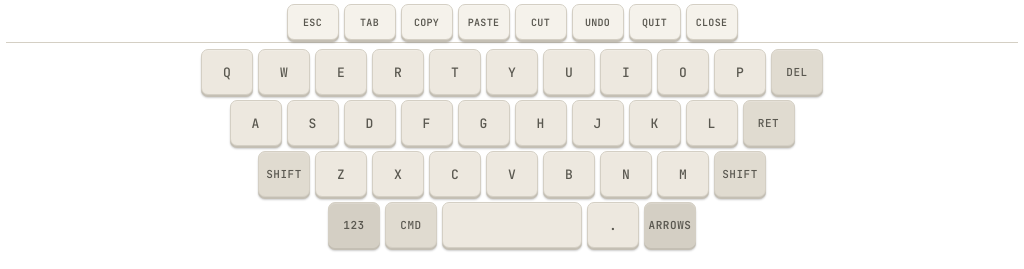
Test case: VirtualKeyboard › mode switching › should switch back to letters mode when ABC is pressed
Go to number mode
Press the mouse on the button "123" at (354, 225), box x1=328 y1=202 x2=380 y2=248
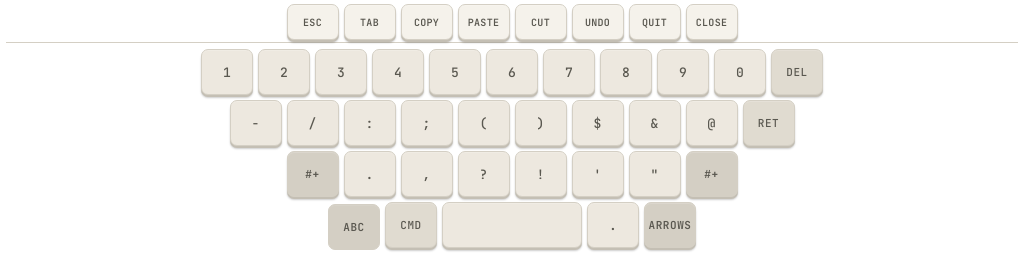
Go back to letter mode
Press the mouse on the button "ABC" at (354, 227), box x1=328 y1=204 x2=380 y2=250
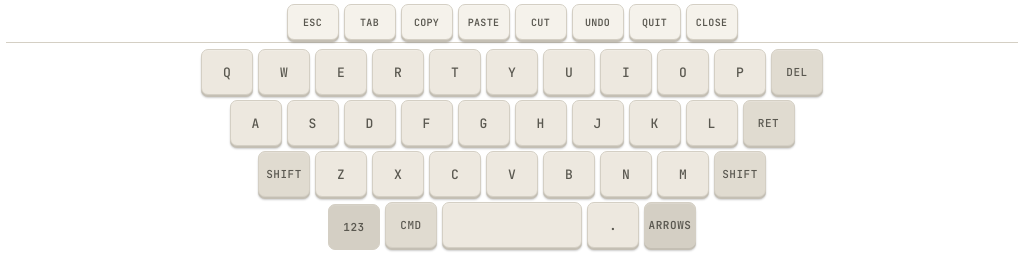
Check: the button "Q" is shown, box x1=201 y1=49 x2=253 y2=95
Check: the button "123" is shown, box x1=328 y1=204 x2=380 y2=250
